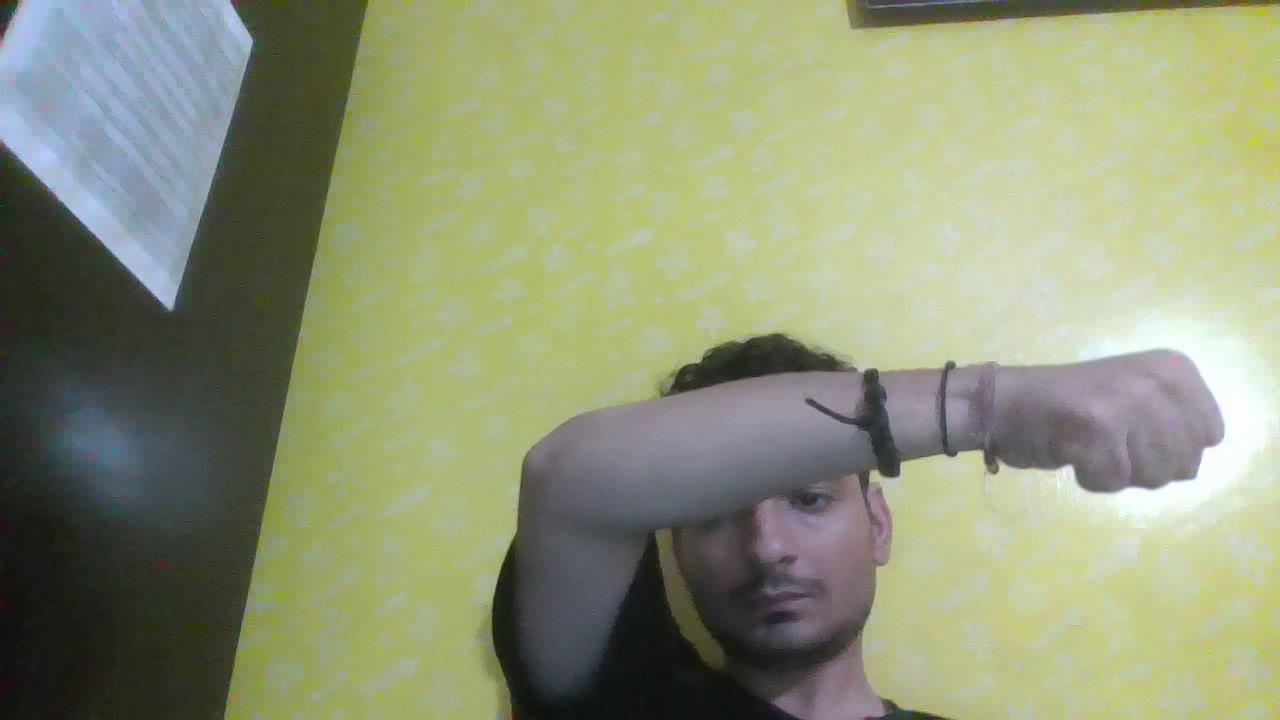Yes: (1001, 316, 1259, 508)
